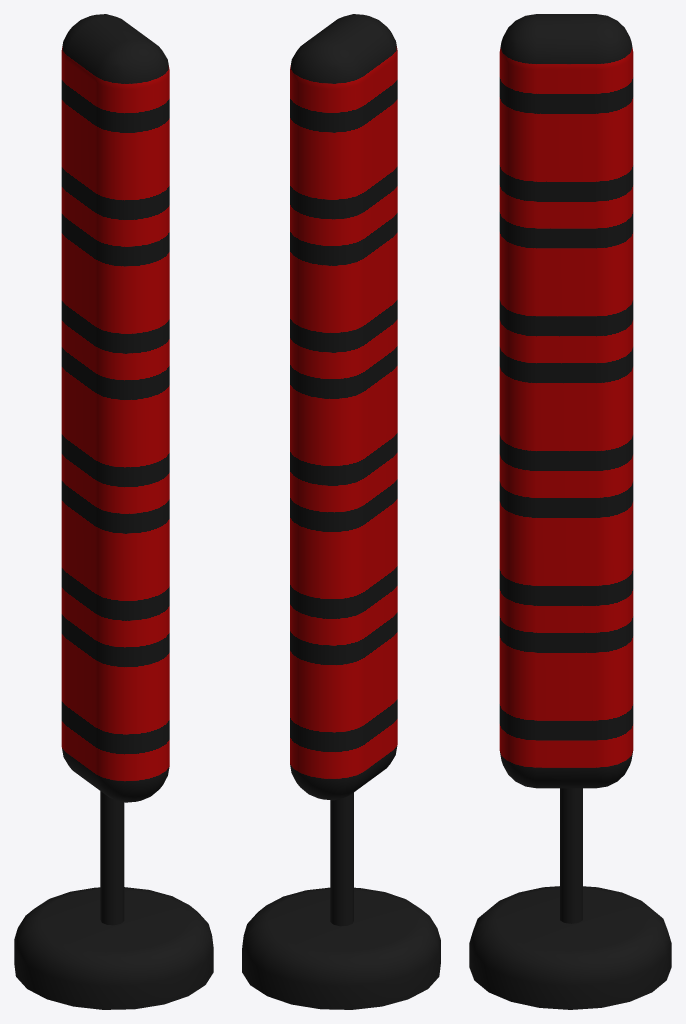
Rendered from kicking bag_03.fbx.
3 renders of one model, left to right at view 1: azimuth 30°, elevation 25°; view 2: azimuth 150°, elevation 25°; view 3: azimuth 270°, elevation 25°, orthographic.
Parts seen in each view (by area): view 1: polySurface86, polySurface89; view 2: polySurface86, polySurface89; view 3: polySurface86, polySurface89.
Boxes of the visible parts, x1,y1,x2,y2 form: polySurface86: (61,14,169,802); polySurface89: (14,791,213,1009); polySurface86: (290,14,397,800); polySurface89: (242,792,440,1009); polySurface86: (499,14,633,788); polySurface89: (469,788,671,1009).
Bounding box in the file's own units: 2.55 × 13.18 × 2.55.
